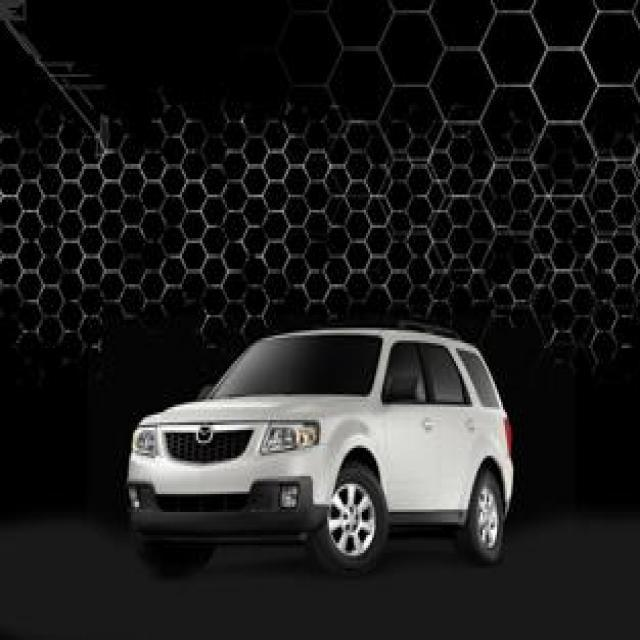Car: (145, 276, 524, 548)
